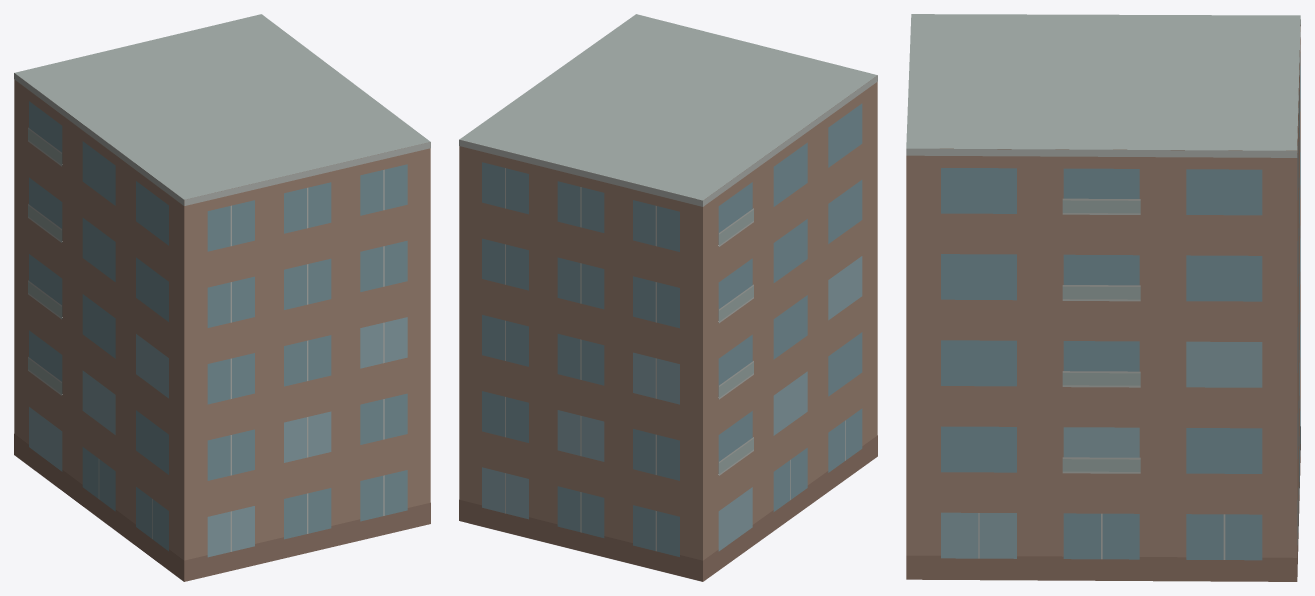
Rendered from survey-upis-32877392.glb.
3 views of the same model, side by side, from view 1: azimuth 30°, elevation 25°; view 2: azimuth 150°, elevation 25°; view 3: azimuth 270°, elevation 25° (orthographic). The views are drawn at different scales.
Parts seen in each view (by area): view 1: survey-upis-32877392.tmp; view 2: survey-upis-32877392.tmp; view 3: survey-upis-32877392.tmp.
Boxes of the visible parts, x1,y1,x2,y2 form: survey-upis-32877392.tmp: [14, 14, 430, 581]; survey-upis-32877392.tmp: [459, 14, 877, 581]; survey-upis-32877392.tmp: [906, 14, 1300, 581].
Size of the model in its own units: 9.94 by 14.6 by 12.12.
